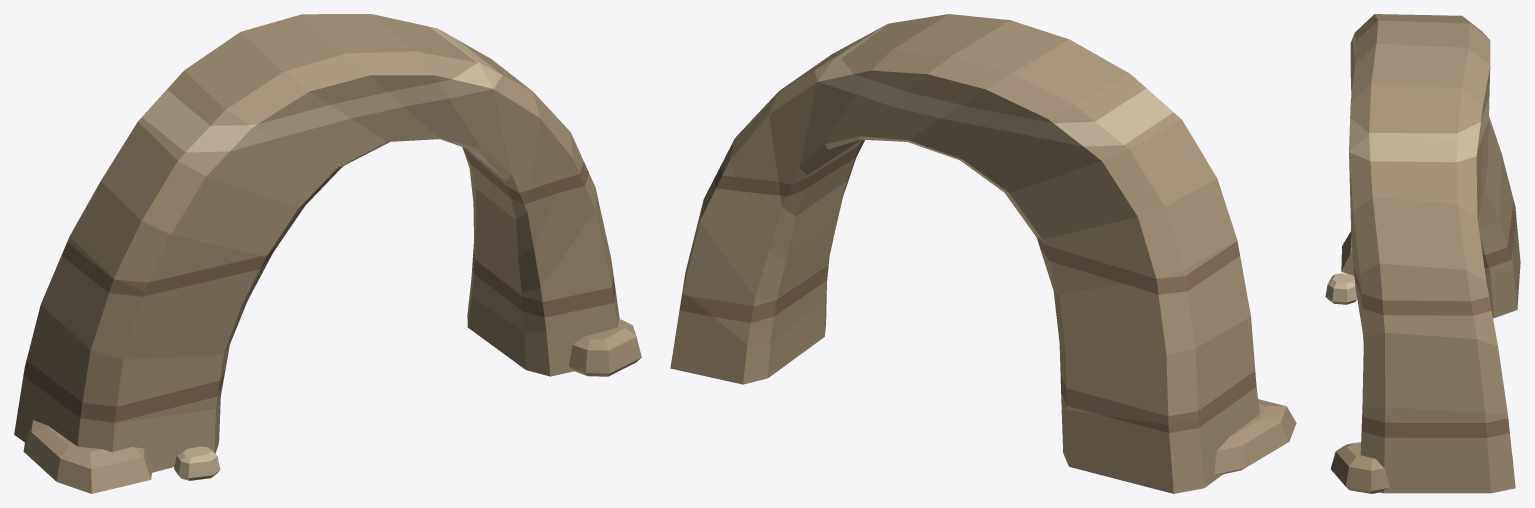
File: natural-arch.glb
The picture shows the model from 3 angles, left to right: view 1: azimuth 30°, elevation 25°; view 2: azimuth 150°, elevation 25°; view 3: azimuth 270°, elevation 25°; orthographic projection. The views are drawn at different scales.
Visible parts, largest first — view 1: Continuous_weathered_arch, Left_foot_bedding, Right_foot_scree, Left_toe_chip; view 2: Continuous_weathered_arch, Left_foot_bedding; view 3: Continuous_weathered_arch, Right_foot_scree, Left_toe_chip, Left_foot_bedding.
Boxes of the visible parts, x1,y1,x2,y2 form: Continuous_weathered_arch: [14, 14, 619, 472]; Left_foot_bedding: [23, 420, 152, 493]; Right_foot_scree: [568, 319, 641, 376]; Left_toe_chip: [174, 446, 220, 480]; Continuous_weathered_arch: [670, 14, 1259, 493]; Left_foot_bedding: [1214, 399, 1296, 474]; Continuous_weathered_arch: [1349, 14, 1520, 493]; Right_foot_scree: [1330, 442, 1389, 493]; Left_toe_chip: [1325, 273, 1357, 304]; Left_foot_bedding: [1341, 231, 1354, 275].
Size of the model in its own units: 5.35 by 3.24 by 1.76.
